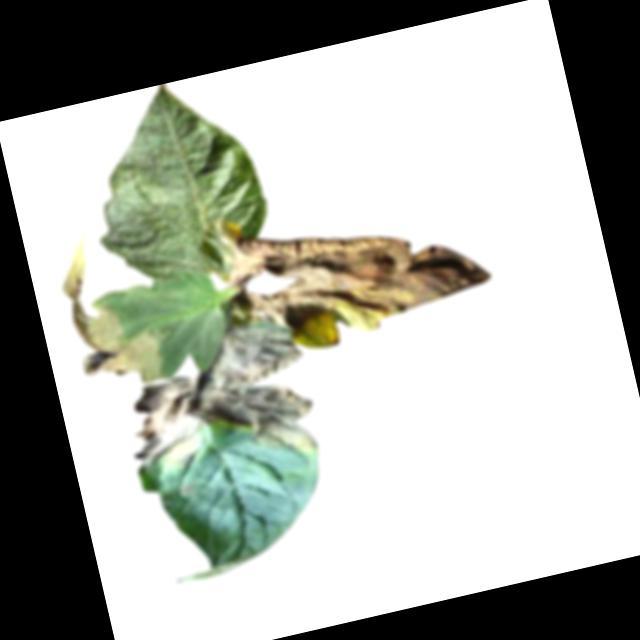Late_blight: (210, 166, 499, 368), (107, 312, 324, 491), (41, 217, 152, 401)
healthy: (70, 68, 278, 291)
